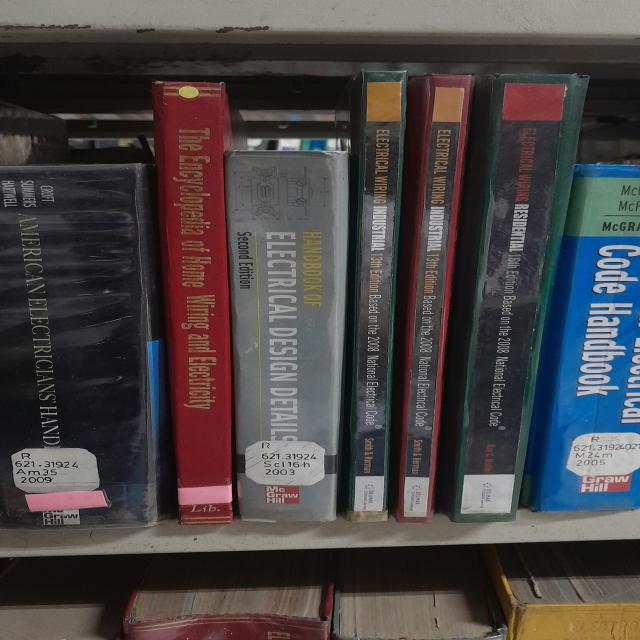book: (0, 143, 177, 539), (451, 74, 588, 522), (226, 151, 348, 522), (525, 164, 640, 511), (391, 74, 472, 523), (152, 81, 232, 524), (347, 71, 406, 521)
